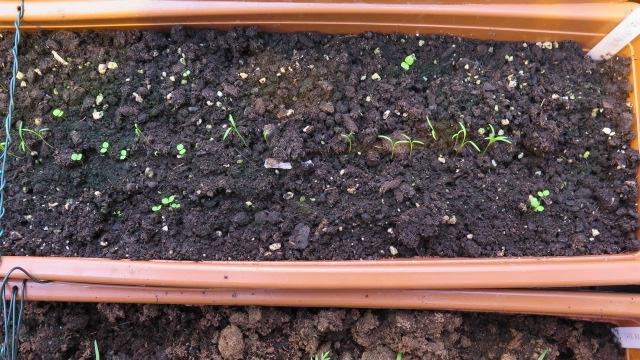weed: (171, 141, 187, 154), (115, 146, 129, 160), (97, 137, 107, 155), (67, 151, 85, 161), (534, 188, 552, 196), (51, 107, 64, 117)
